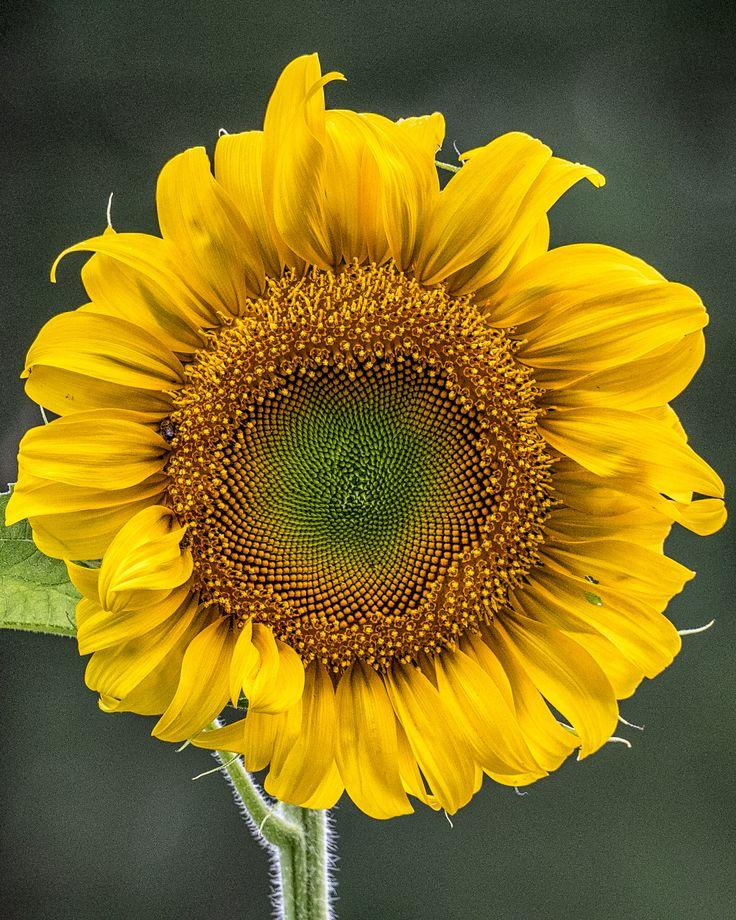sunflowers: (27, 78, 709, 806)
